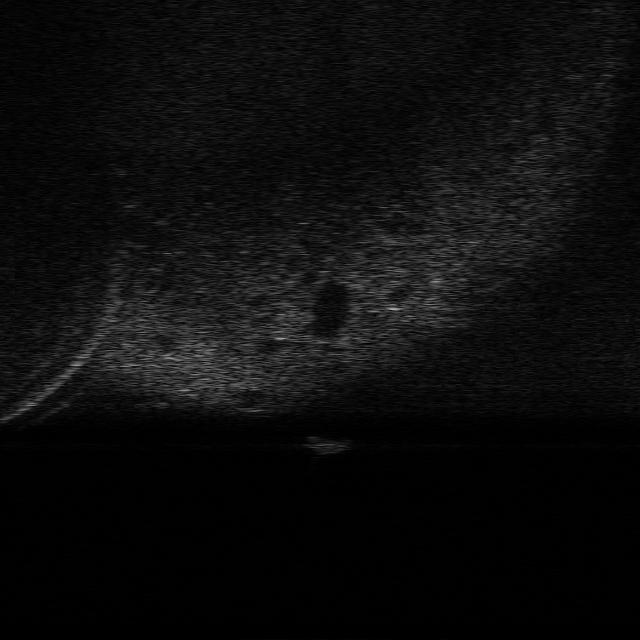cube: (298, 434, 352, 456)
